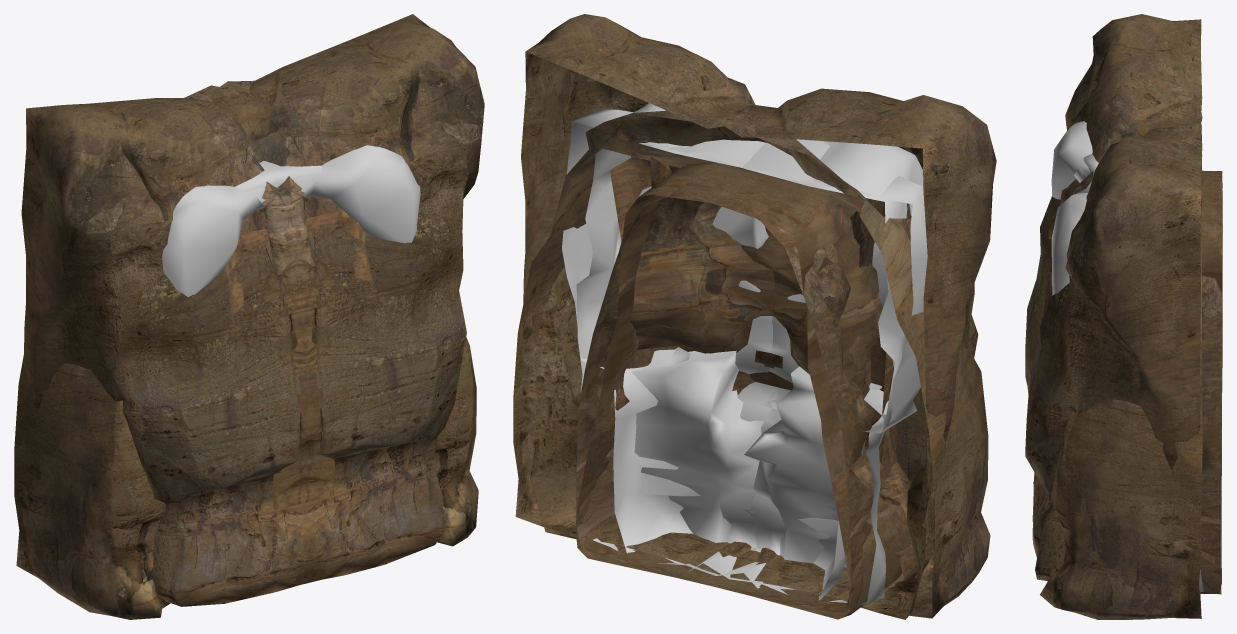
The model's file is TestStones.fbx.
The picture shows the model from 3 angles, left to right: view 1: azimuth 30°, elevation 25°; view 2: azimuth 150°, elevation 25°; view 3: azimuth 270°, elevation 25°; orthographic projection. The views are drawn at different scales.
Parts seen in each view (by area): view 1: Aset_nature_rock_L_wd4icid_00_LOD006, Aset_nature_rock_L_wd4icid_00_LOD5, Aset_nature_rock_L_wdqiedw_00_LOD006, Aset_nature_rock_L_wdqiedw_00_LOD5, Aset_nature_rock_L_xekkefiqx_00_LOD006, Aset_nature_rock_L_xekkefiqx_00_LOD5; view 2: Aset_nature_rock_L_wd4icid_00_LOD006, Aset_nature_rock_L_wd4icid_00_LOD5, Aset_nature_rock_L_wdgicie_00_LOD5, Aset_nature_rock_L_wdqiedw_00_LOD5, Aset_nature_rock_L_wdqiedw_00_LOD006, Aset_nature_rock_L_wdgicie_00_LOD006, Aset_nature_rock_L_xekkefiqx_00_LOD5, Aset_nature_rock_L_xekkefiqx_00_LOD006; view 3: Aset_nature_rock_L_wd4icid_00_LOD5, Aset_nature_rock_L_wd4icid_00_LOD006, Aset_nature_rock_L_wdgicie_00_LOD5, Aset_nature_rock_L_wdgicie_00_LOD006, Aset_nature_rock_L_wdqiedw_00_LOD006, Aset_nature_rock_L_wdqiedw_00_LOD5, Aset_nature_rock_L_xekkefiqx_00_LOD5.
Part boxes in pixels (x1,y1,x2,y2): Aset_nature_rock_L_wd4icid_00_LOD006: (14, 14, 484, 619); Aset_nature_rock_L_wd4icid_00_LOD5: (21, 80, 478, 606); Aset_nature_rock_L_wdqiedw_00_LOD006: (235, 145, 420, 243); Aset_nature_rock_L_wdqiedw_00_LOD5: (162, 161, 322, 297); Aset_nature_rock_L_xekkefiqx_00_LOD006: (277, 188, 373, 282); Aset_nature_rock_L_xekkefiqx_00_LOD5: (224, 188, 278, 317); Aset_nature_rock_L_wd4icid_00_LOD006: (521, 14, 990, 618); Aset_nature_rock_L_wd4icid_00_LOD5: (513, 88, 996, 619); Aset_nature_rock_L_wdgicie_00_LOD5: (576, 168, 910, 619); Aset_nature_rock_L_wdqiedw_00_LOD5: (562, 109, 923, 604); Aset_nature_rock_L_wdqiedw_00_LOD006: (576, 103, 927, 600); Aset_nature_rock_L_wdgicie_00_LOD006: (576, 163, 882, 613); Aset_nature_rock_L_xekkefiqx_00_LOD5: (610, 156, 917, 584); Aset_nature_rock_L_xekkefiqx_00_LOD006: (650, 156, 910, 463); Aset_nature_rock_L_wd4icid_00_LOD5: (1025, 14, 1202, 619); Aset_nature_rock_L_wd4icid_00_LOD006: (1025, 112, 1202, 580); Aset_nature_rock_L_wdgicie_00_LOD5: (1200, 170, 1222, 590); Aset_nature_rock_L_wdgicie_00_LOD006: (1200, 175, 1222, 594); Aset_nature_rock_L_wdqiedw_00_LOD006: (1051, 153, 1203, 592); Aset_nature_rock_L_wdqiedw_00_LOD5: (1051, 121, 1092, 199); Aset_nature_rock_L_xekkefiqx_00_LOD5: (1048, 179, 1079, 239).
Bounding box in the file's own units: 331 × 368 × 147.
